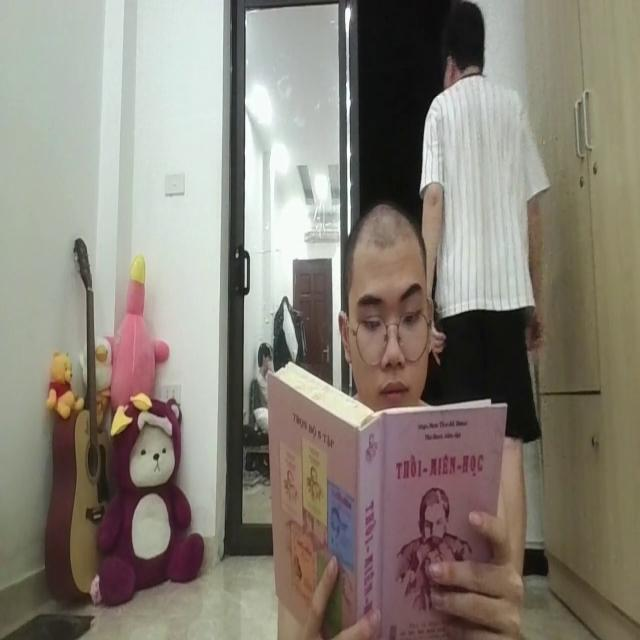book: (265, 355, 510, 640)
extra_person: (419, 8, 548, 426)
student: (332, 194, 438, 422)
